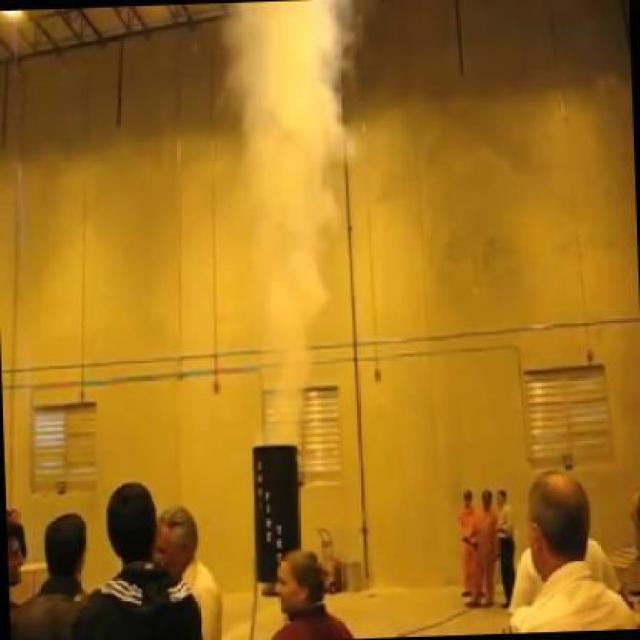fire: (212, 0, 367, 432)
